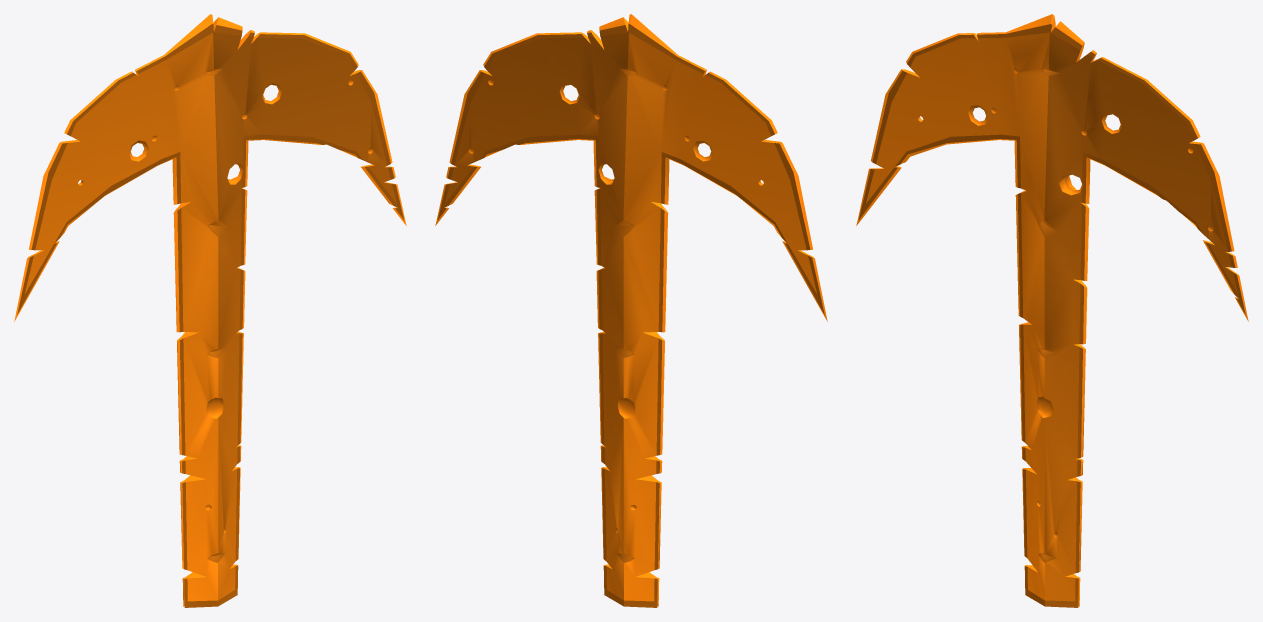
Rendered from bronze_blade_bubbles_029.glb.
3 views of the same model, side by side, from view 1: azimuth 30°, elevation 25°; view 2: azimuth 150°, elevation 25°; view 3: azimuth 330°, elevation 25° (orthographic).
Visible parts, largest first — view 1: bronze_blade_bubbles.029; view 2: bronze_blade_bubbles.029; view 3: bronze_blade_bubbles.029.
Part boxes in pixels (x1,y1,x2,y2): bronze_blade_bubbles.029: (14,14,406,607); bronze_blade_bubbles.029: (435,14,827,607); bronze_blade_bubbles.029: (856,14,1248,607).
Bounding box in the file's own units: 8.24 × 11.78 × 0.5822.
Materials: 1 (1 with a texture image).
